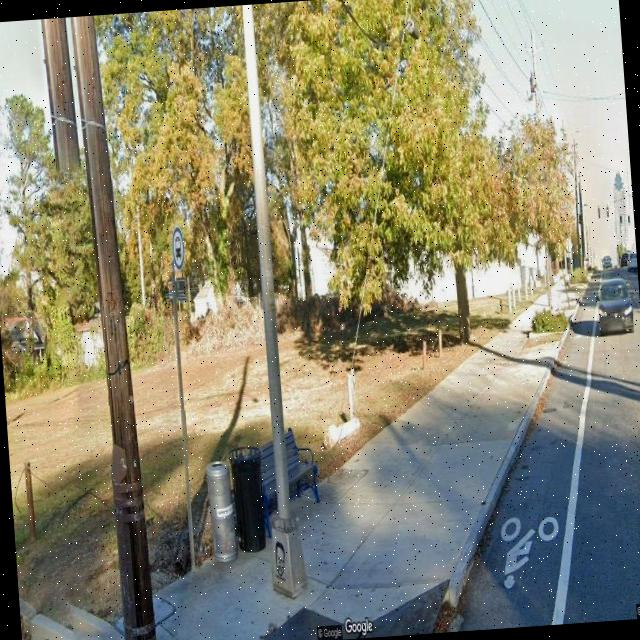seating: (255, 425, 323, 539)
trash_can: (226, 445, 268, 554), (204, 458, 238, 564)
